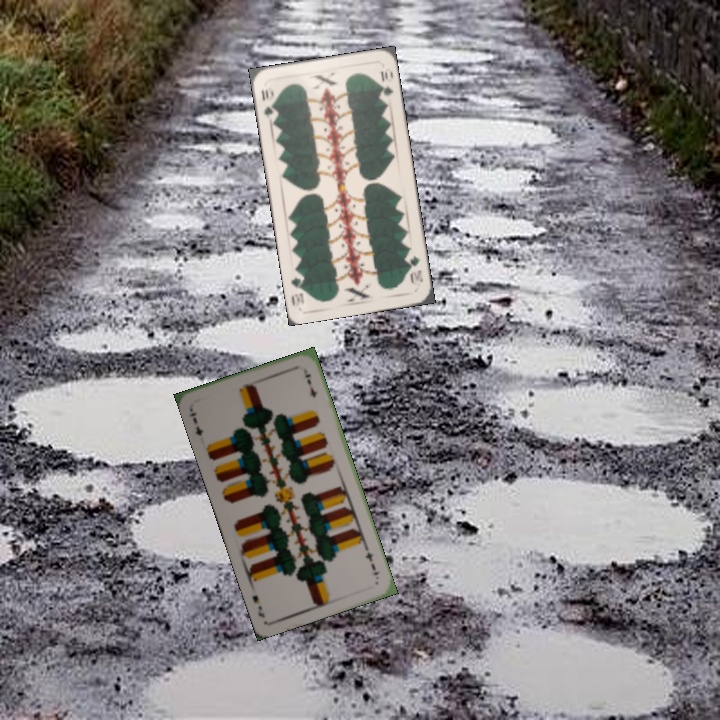E7: (361, 543, 382, 578), (185, 408, 206, 439)
G10: (257, 85, 278, 122), (404, 252, 425, 288)
